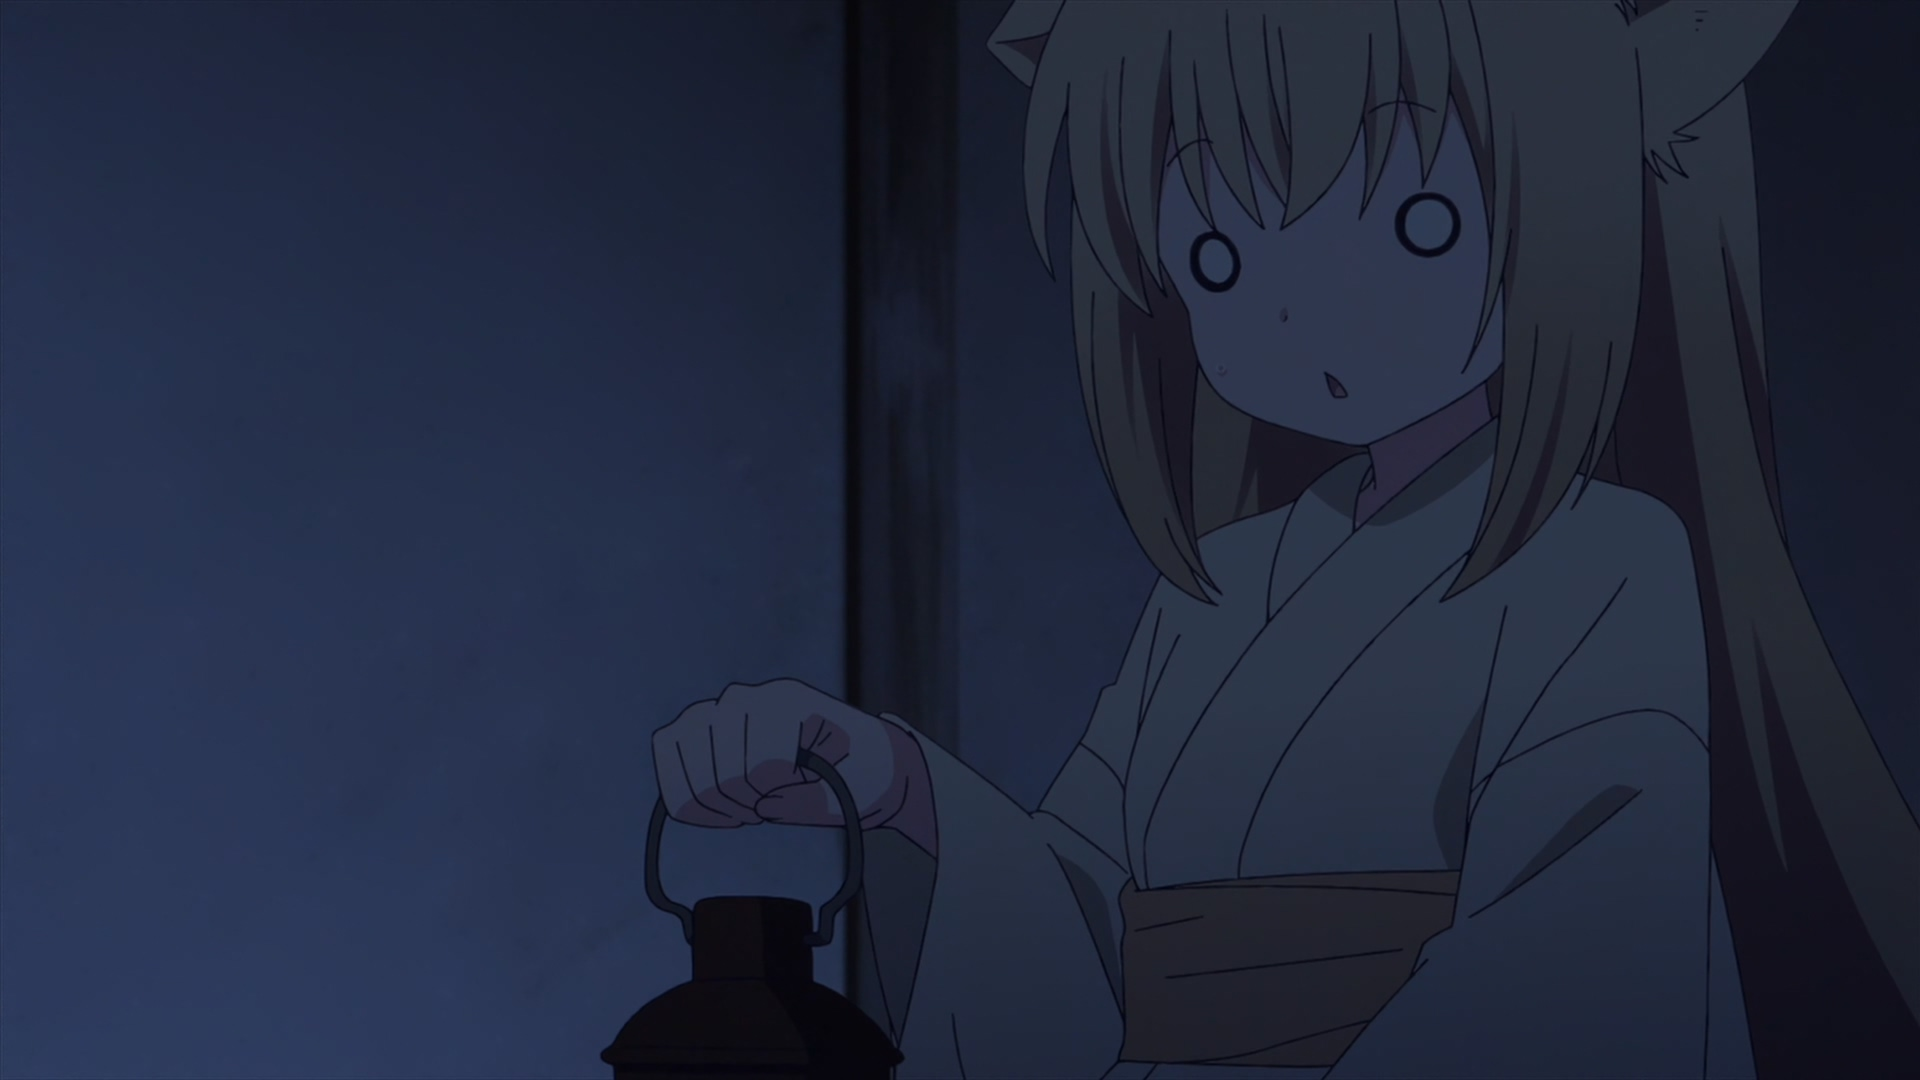柚: (653, 1, 1920, 1080)
